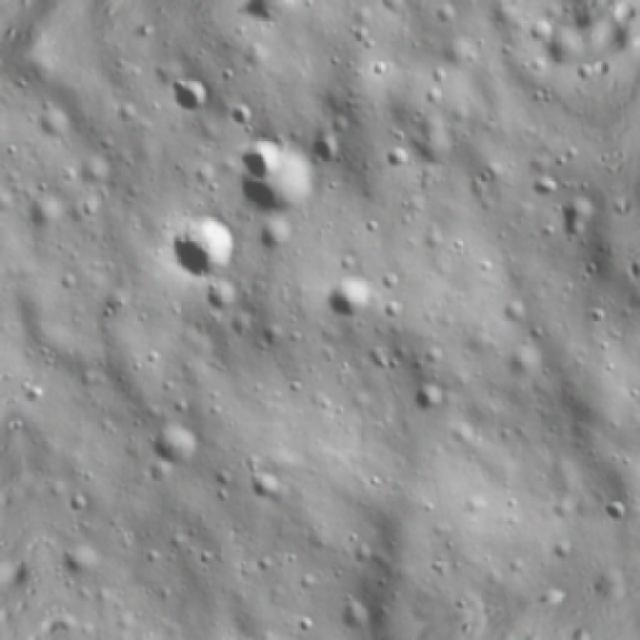crater: (221, 130, 327, 232), (158, 205, 250, 293), (142, 412, 209, 482), (318, 268, 384, 330), (226, 130, 286, 184), (163, 67, 219, 122), (555, 195, 607, 251), (197, 278, 255, 324), (408, 377, 457, 429), (248, 460, 294, 515), (589, 483, 636, 528), (308, 132, 346, 178), (382, 139, 418, 176), (224, 106, 256, 134)
